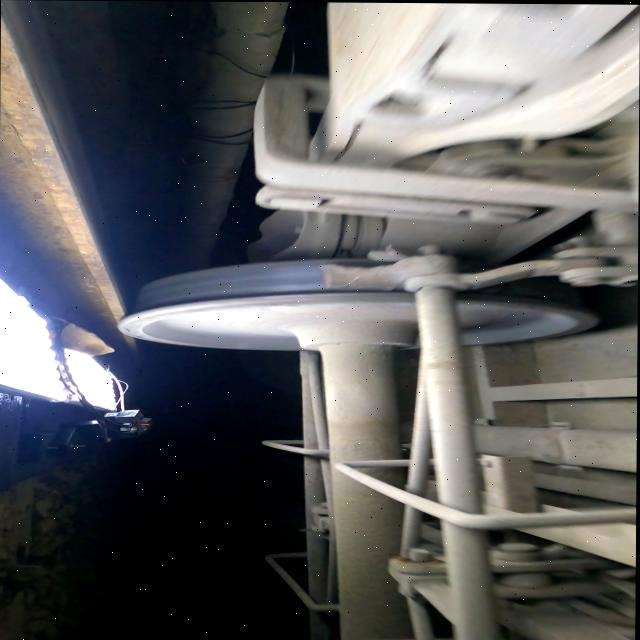Wheel: (118, 260, 417, 351)
